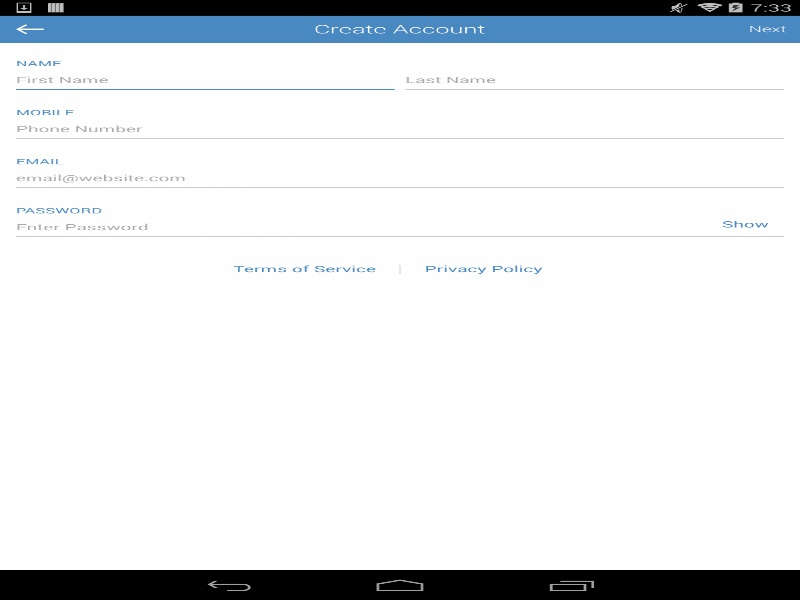Button: (224, 254, 383, 284), (416, 254, 550, 284), (698, 207, 784, 237), (714, 15, 800, 43)
Input: (16, 117, 784, 141), (16, 166, 784, 190), (16, 215, 784, 239), (405, 68, 784, 92), (16, 68, 394, 92)
